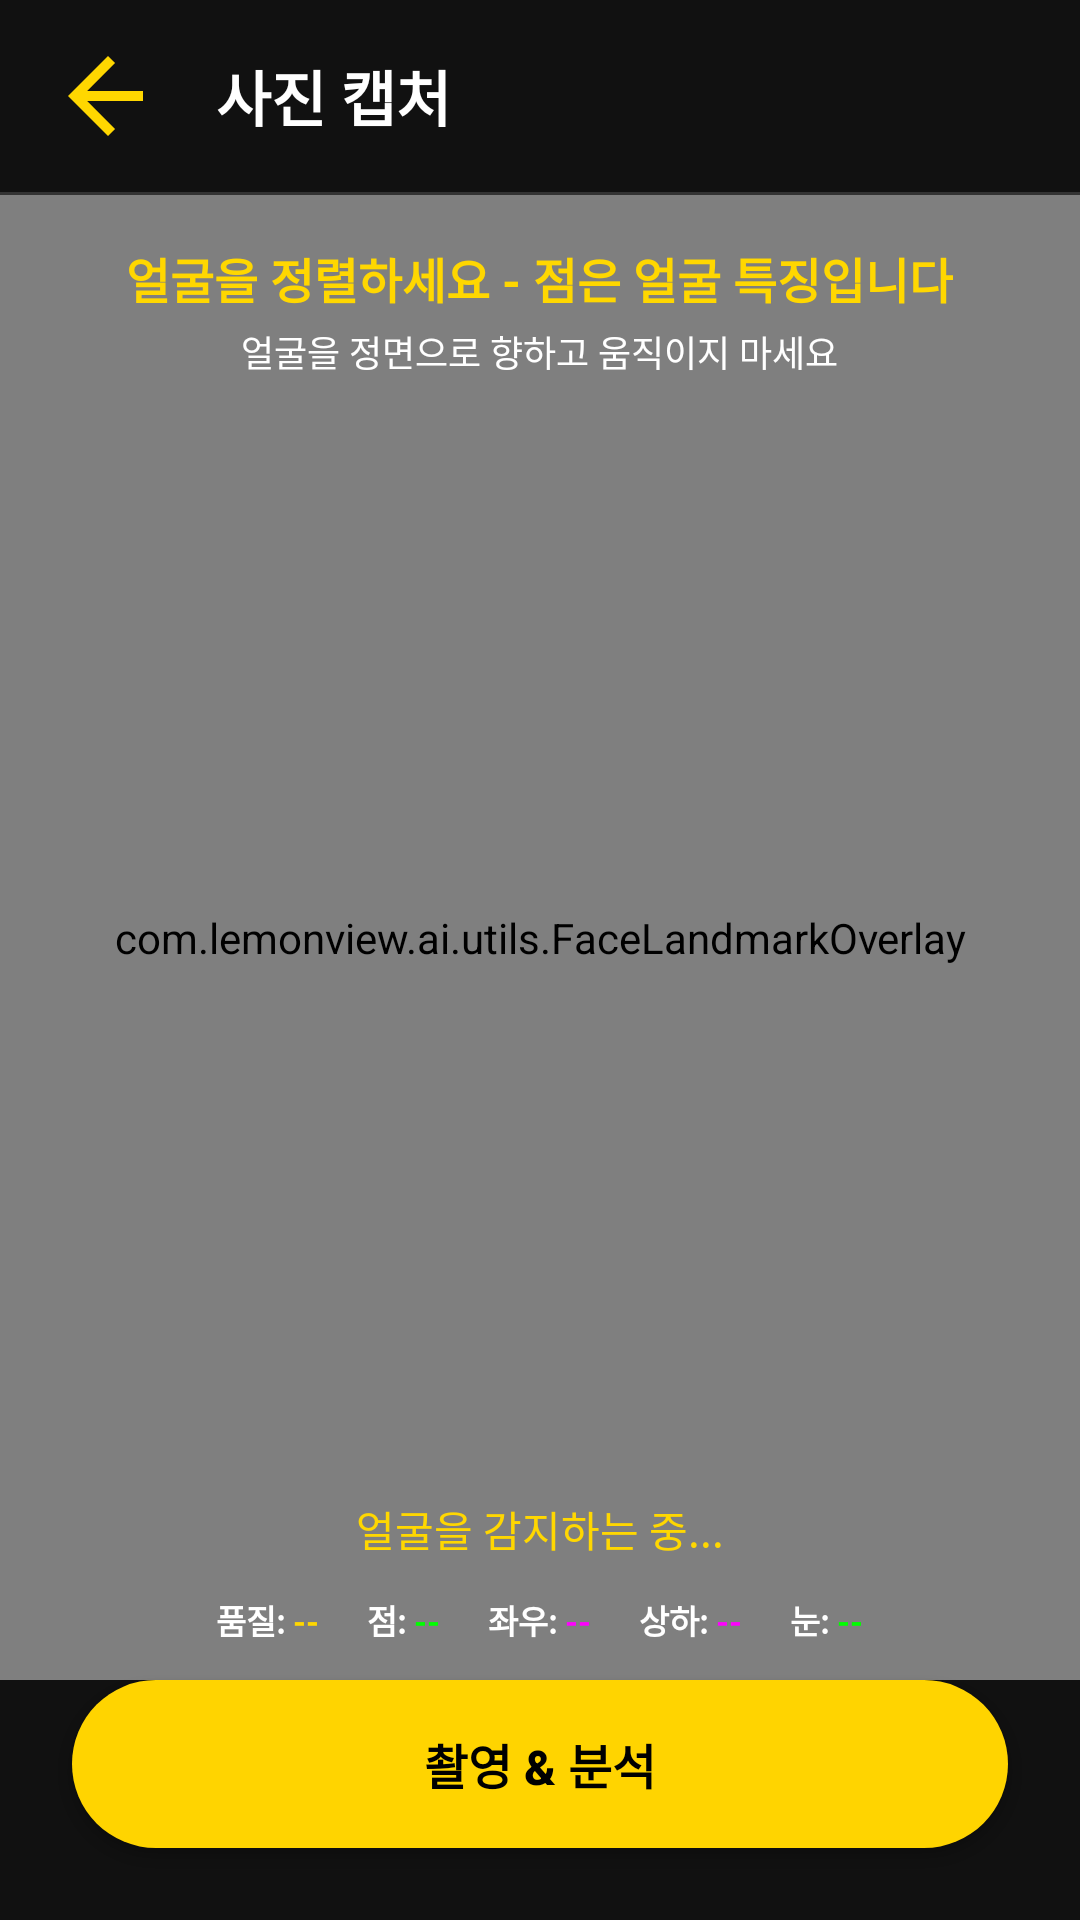

Point at icon controls on the screen. Image size 1080 x 1920, points as point (x, y).
뒤로: point (105, 96)
